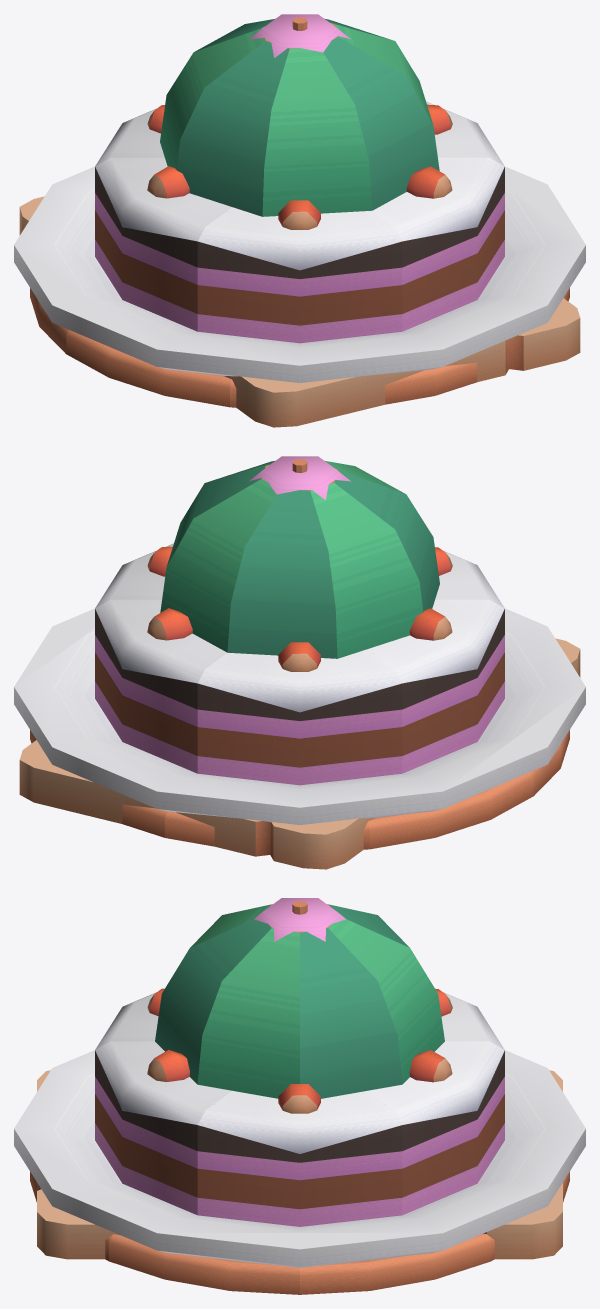
File: kenney-food.glb
3 views of the same model, one above another, from view 1: azimuth 30°, elevation 25°; view 2: azimuth 150°, elevation 25°; view 3: azimuth 270°, elevation 25° (orthographic).
Parts seen in each view (by area): view 1: slice (×10), plate, cutting-board, slice8, Group, slice7, slice6, slice1; view 2: slice (×10), plate, cutting-board, slice1, Group, slice2, slice3, slice8; view 3: slice (×11), plate, cutting-board, slice4, slice5, Group.
Part boxes in pixels (x1,y1,x2,y2): slice (×10): [95, 19, 504, 343]; plate: [14, 166, 585, 382]; cutting-board: [19, 196, 580, 427]; slice8: [66, 330, 231, 407]; Group: [249, 14, 350, 57]; slice7: [230, 369, 434, 407]; slice6: [432, 363, 477, 395]; slice1: [30, 288, 69, 353]; slice (×10): [95, 461, 504, 785]; plate: [14, 608, 585, 824]; cutting-board: [19, 638, 580, 869]; slice1: [368, 772, 533, 849]; Group: [249, 456, 350, 499]; slice2: [165, 811, 369, 849]; slice3: [122, 805, 167, 837]; slice8: [530, 730, 569, 795]; slice (×11): [95, 902, 504, 1226]; plate: [14, 1050, 585, 1267]; cutting-board: [37, 1070, 562, 1259]; slice4: [300, 1234, 490, 1294]; slice5: [109, 1234, 299, 1294]; Group: [254, 898, 345, 941].
Size of the model in its own units: 0.8918 by 0.4761 by 0.8918.
Materials: 1 (1 with a texture image).
